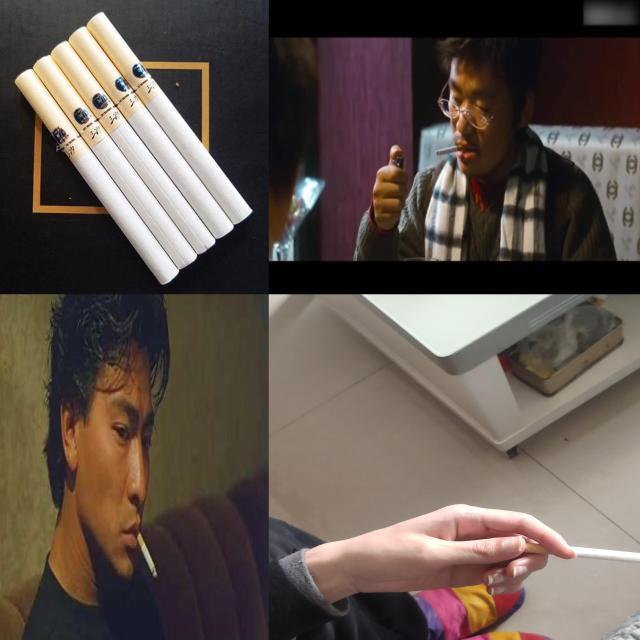smoking: (14, 68, 180, 285), (86, 12, 254, 225), (68, 26, 235, 240), (50, 41, 216, 256), (34, 55, 198, 271), (516, 544, 640, 564), (136, 528, 158, 582), (433, 142, 466, 162)
